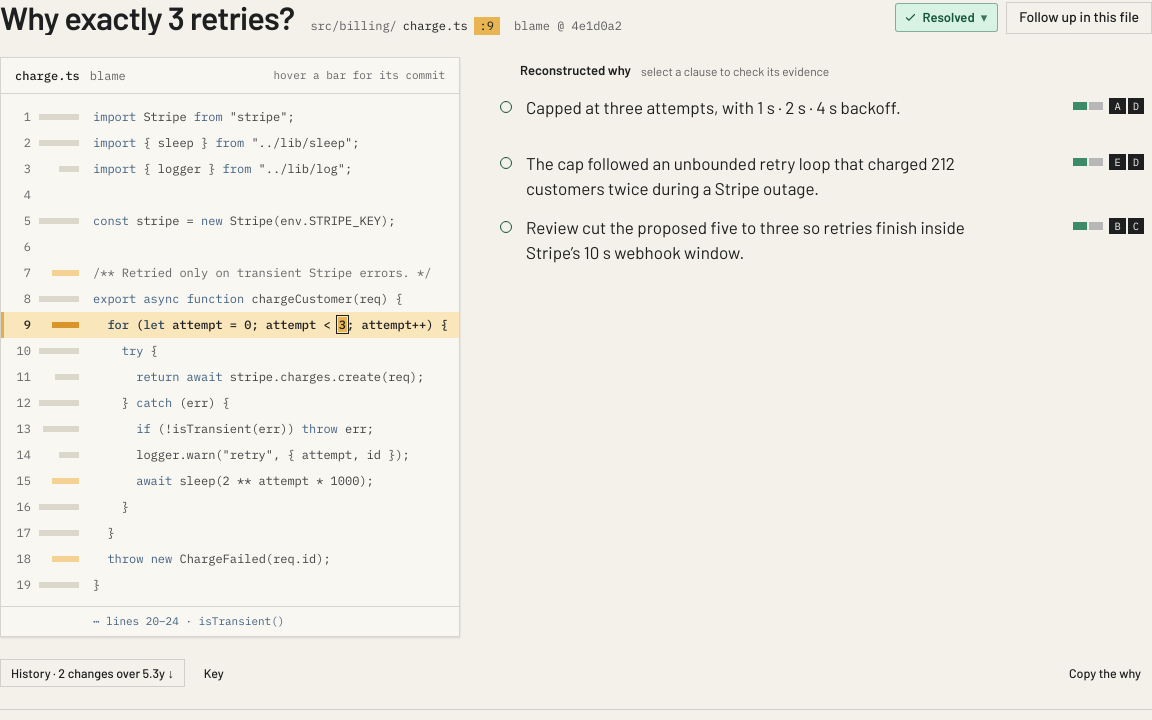
LineInvestigation — verdict and key › shows the checklist and confidence only inside the popover
Expected: the text "0.90" is not shown
Click the button "Resolved ▾" at coordinates (946, 18), box [895,3,998,32]
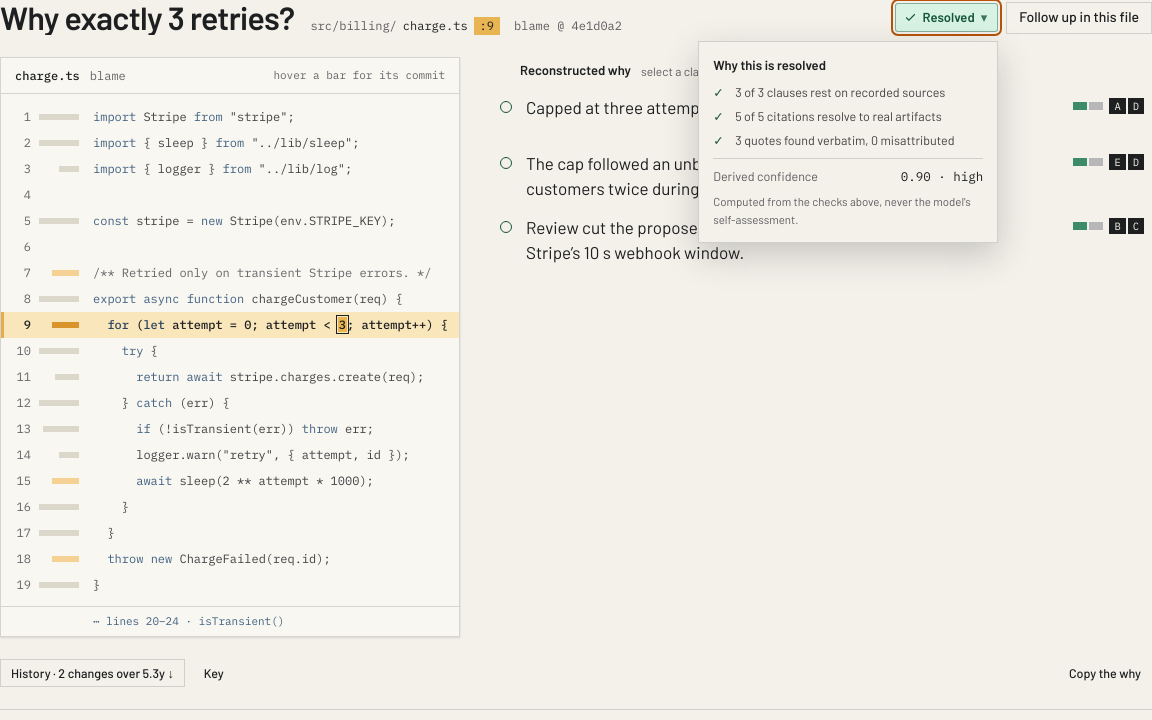
Expected: the text "3 quotes found verbatim, 0 misattributed" is shown, [735,131,983,150]
Expected: the text "0.90 · high" is shown, [901,167,983,185]
Press Escape
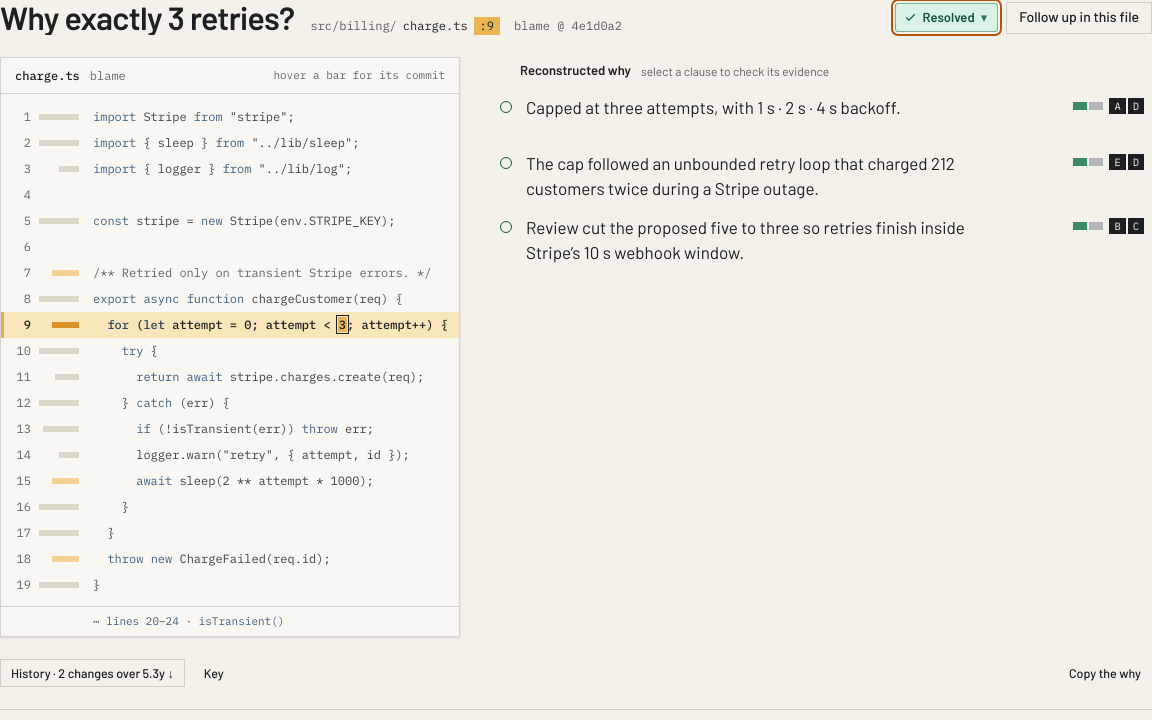
Expected: the dialog is gone
